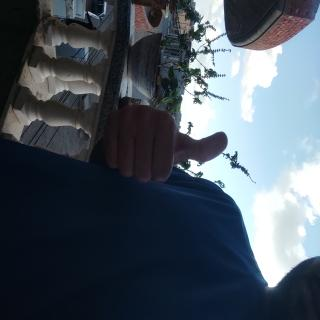ALIF: (73, 114, 152, 301)
